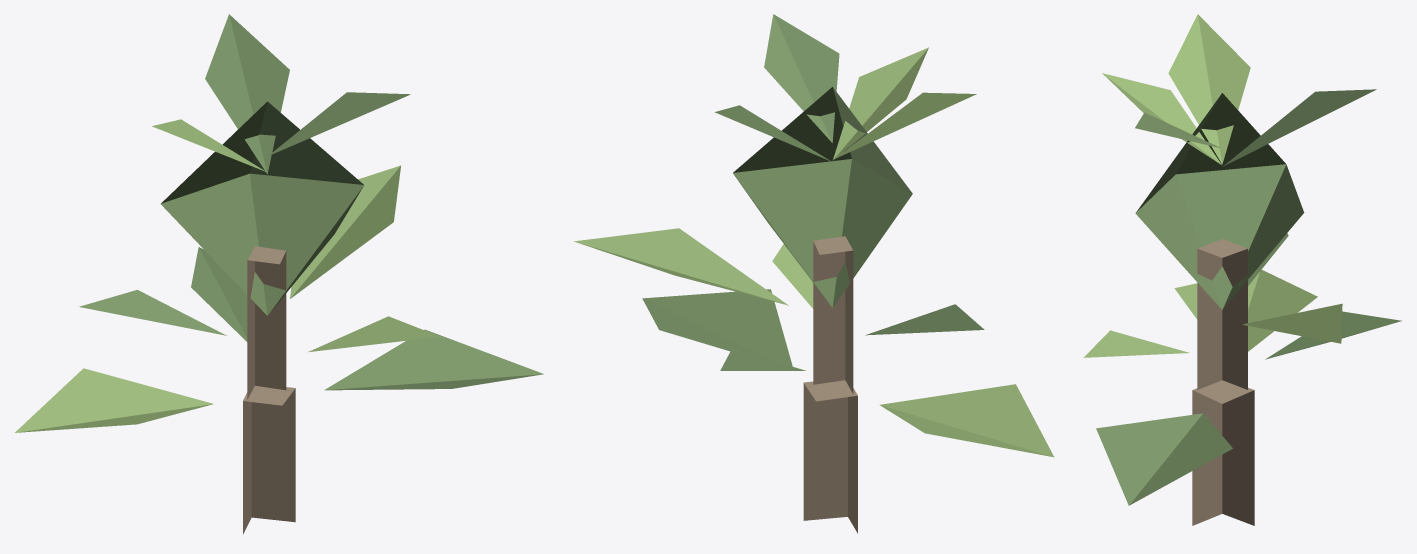
Rendered from shu.xiangzhang@seedling__spring.glb.
3 views of the same model, side by side, from view 1: azimuth 30°, elevation 25°; view 2: azimuth 150°, elevation 25°; view 3: azimuth 270°, elevation 25° (orthographic). The views are drawn at different scales.
Visible parts, largest first — view 1: shu.xiangzhang@seedling__spring; view 2: shu.xiangzhang@seedling__spring; view 3: shu.xiangzhang@seedling__spring.
Boxes of the visible parts, x1,y1,x2,y2 form: shu.xiangzhang@seedling__spring: (15, 14, 543, 534); shu.xiangzhang@seedling__spring: (574, 14, 1053, 533); shu.xiangzhang@seedling__spring: (1083, 14, 1401, 525).
Bounding box in the file's own units: 2.04 × 1.88 × 1.2.
